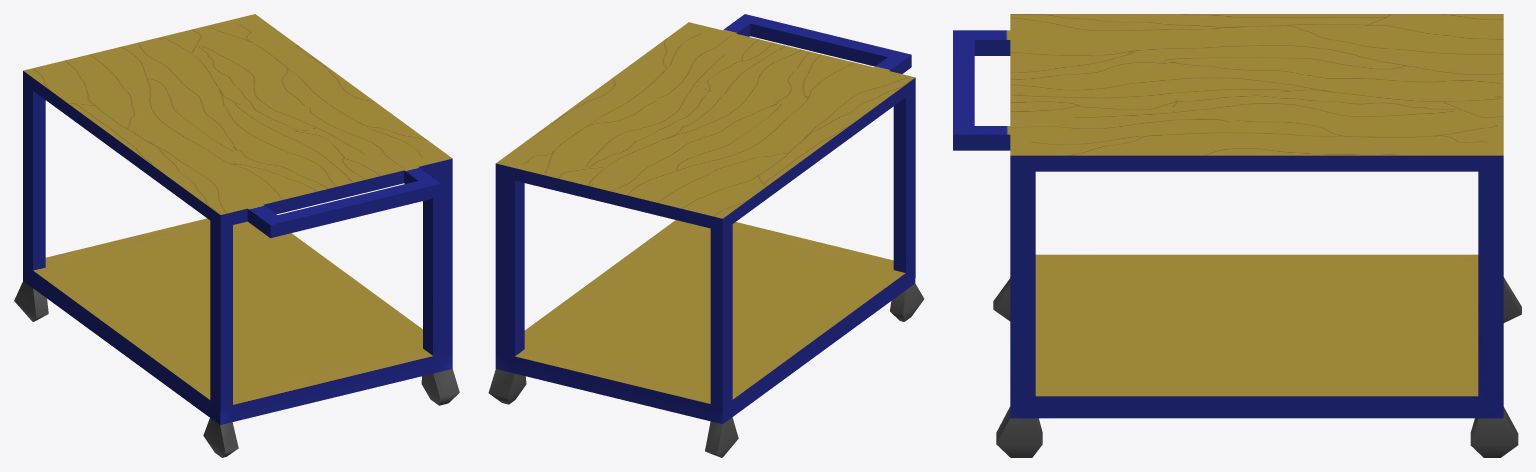
The model's file is Table_for_Lab.fbx.
3 renders of one model, left to right at view 1: azimuth 30°, elevation 25°; view 2: azimuth 150°, elevation 25°; view 3: azimuth 270°, elevation 25°, orthographic. The views are drawn at different scales.
Parts seen in each view (by area): view 1: Table; view 2: Table; view 3: Table.
Part boxes in pixels (x1,y1,x2,y2): Table: (14, 14, 459, 457); Table: (488, 14, 924, 457); Table: (953, 14, 1521, 457).
Size of the model in its own units: 29.65 by 29.87 by 49.56.
Materials: 1 (1 with a texture image).
